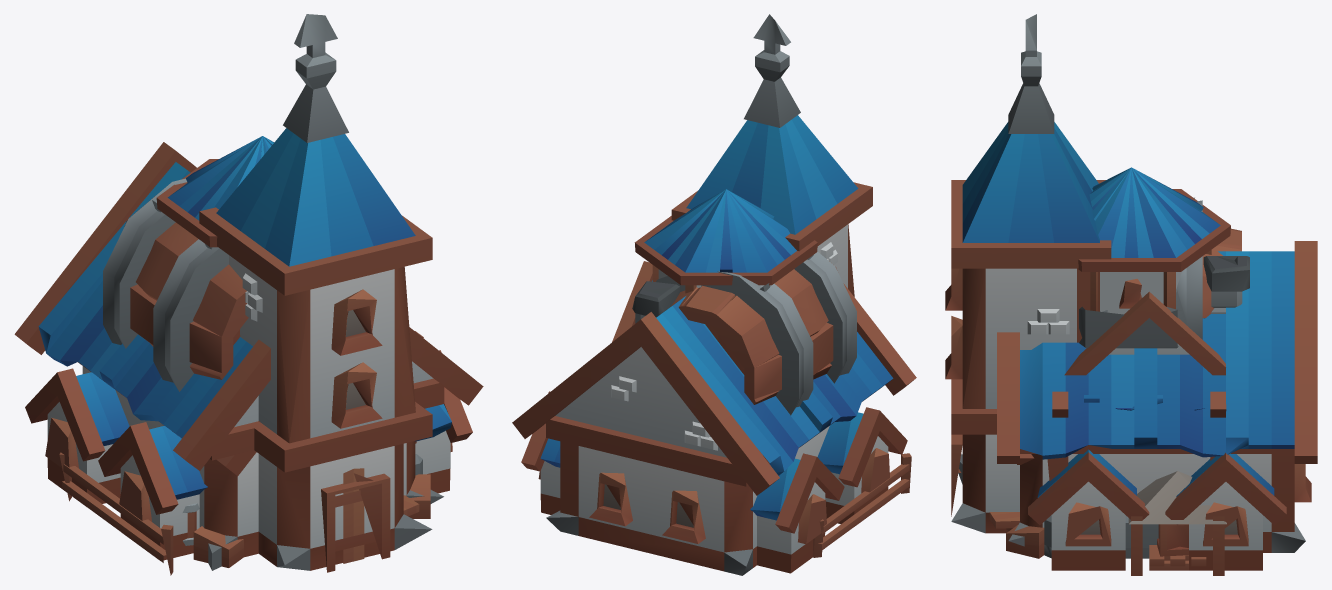
File: kit_civic.glb
3 views of the same model, side by side, from view 1: azimuth 30°, elevation 25°; view 2: azimuth 150°, elevation 25°; view 3: azimuth 270°, elevation 25° (orthographic). The views are drawn at different scales.
Visible parts, largest first — view 1: building_church_blue, building_tavern_blue, building_market_blue, building_tower_A_top_blue; view 2: building_church_blue, building_tavern_blue, building_tower_A_top_blue, building_market_blue, building_home_B_blue; view 3: building_church_blue, building_tower_A_top_blue, building_home_B_blue, building_market_blue, building_tavern_blue, building_tower_A_blue.
Part boxes in pixels (left/top/right/bottom): building_church_blue: left=14, top=14, right=483, bottom=572; building_tavern_blue: left=103, top=178, right=423, bottom=516; building_market_blue: left=59, top=452, right=430, bottom=575; building_tower_A_top_blue: left=156, top=136, right=273, bottom=247; building_church_blue: left=512, top=14, right=916, bottom=575; building_tavern_blue: left=635, top=251, right=856, bottom=415; building_tower_A_top_blue: left=634, top=189, right=817, bottom=293; building_market_blue: left=813, top=453, right=911, bottom=557; building_home_B_blue: left=612, top=261, right=679, bottom=341; building_church_blue: left=945, top=14, right=1317, bottom=570; building_tower_A_top_blue: left=1078, top=167, right=1230, bottom=314; building_home_B_blue: left=1064, top=256, right=1249, bottom=375; building_market_blue: left=1006, top=471, right=1226, bottom=575; building_tavern_blue: left=989, top=197, right=1241, bottom=558; building_tower_A_blue: left=1079, top=306, right=1180, bottom=348.
Bounding box in the file's own units: 12 × 18.8 × 13.
